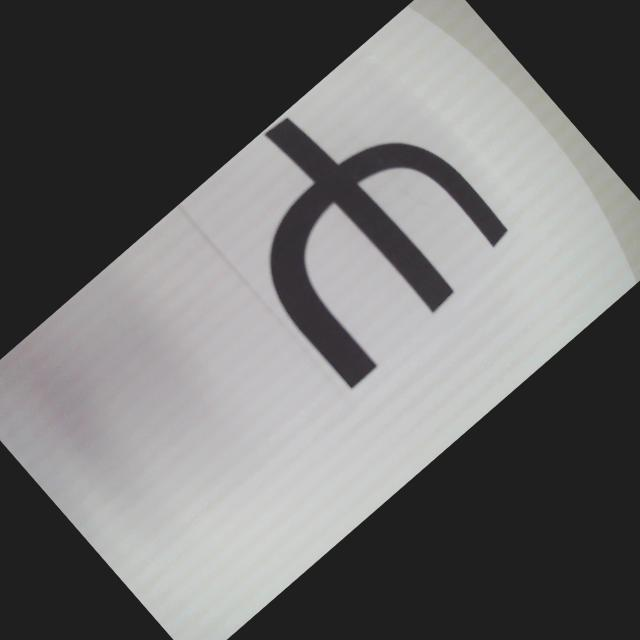PSI: (187, 52, 522, 390)
